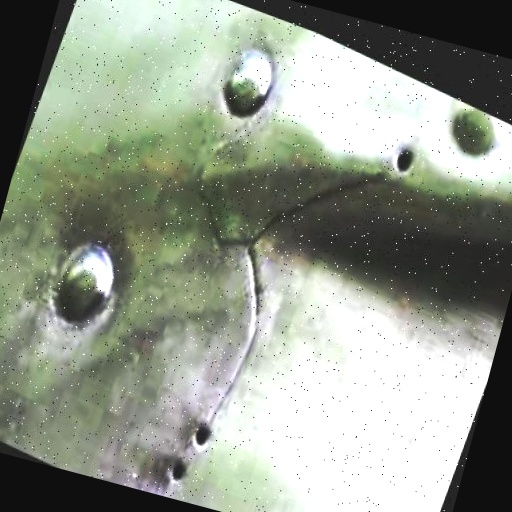crack: (45, 173, 382, 512), (80, 79, 402, 390)
